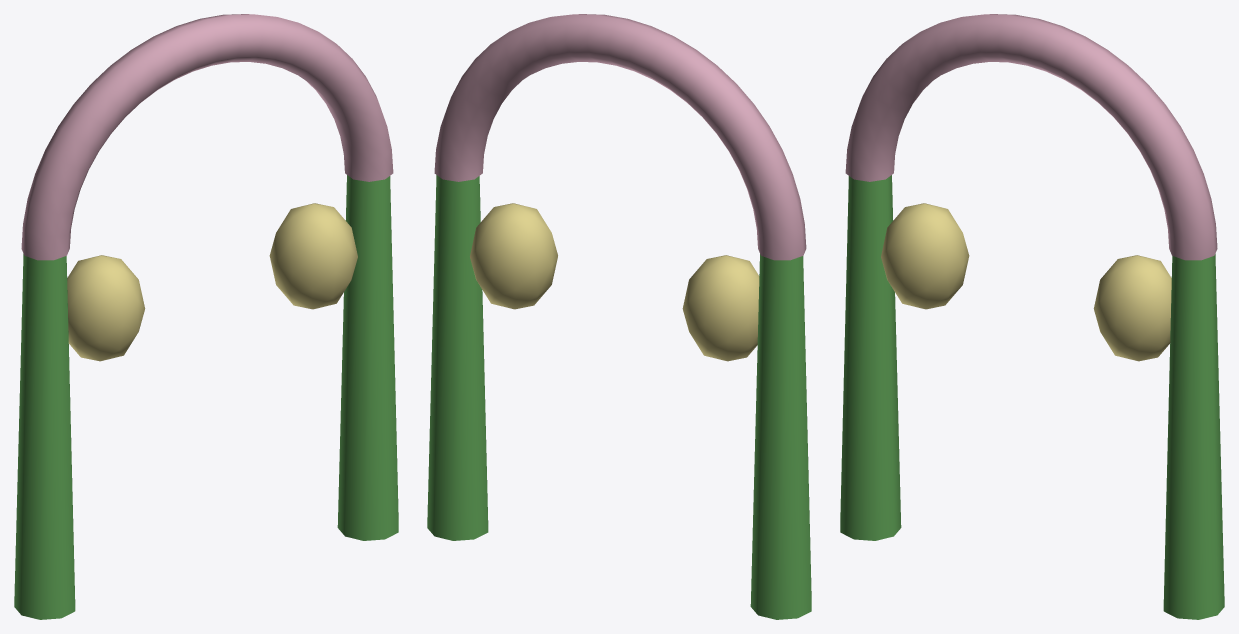
File: lantern_gate.glb
3 views of the same model, side by side, from view 1: azimuth 30°, elevation 25°; view 2: azimuth 150°, elevation 25°; view 3: azimuth 330°, elevation 25° (orthographic).
Visible parts, largest first — view 1: gate_arch, gate_post_-1, gate_post_1, gate_lantern_1, gate_lantern_-1; view 2: gate_arch, gate_post_-1, gate_post_1, gate_lantern_1, gate_lantern_-1; view 3: gate_arch, gate_post_1, gate_post_-1, gate_lantern_-1, gate_lantern_1.
Boxes of the visible parts, left/top/right/bottom form: gate_arch: left=21, top=14, right=393, bottom=260; gate_post_-1: left=14, top=254, right=75, bottom=619; gate_post_1: left=337, top=175, right=398, bottom=540; gate_lantern_1: left=269, top=203, right=357, bottom=309; gate_lantern_-1: left=67, top=255, right=145, bottom=361; gate_arch: left=434, top=14, right=806, bottom=260; gate_post_-1: left=750, top=254, right=811, bottom=619; gate_post_1: left=427, top=175, right=488, bottom=540; gate_lantern_1: left=470, top=203, right=557, bottom=309; gate_lantern_-1: left=682, top=255, right=759, bottom=361; gate_arch: left=845, top=14, right=1217, bottom=260; gate_post_1: left=1163, top=254, right=1224, bottom=619; gate_post_-1: left=840, top=175, right=901, bottom=540; gate_lantern_-1: left=881, top=203, right=969, bottom=309; gate_lantern_1: left=1093, top=255, right=1171, bottom=361.
Size of what is drawn, in the model's own units: 4.43 by 6.15 by 0.9.
